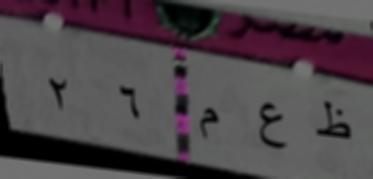2: (45, 68, 78, 114)
6: (118, 81, 148, 126)
Thaa: (308, 101, 358, 147)
ain: (256, 98, 292, 159)
meem: (192, 104, 226, 149)
